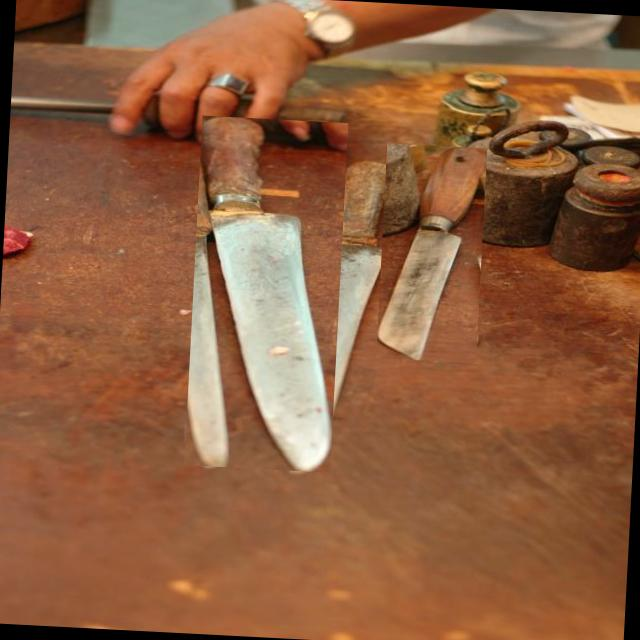Knife: (202, 117, 332, 471), (287, 161, 392, 473), (379, 147, 487, 360)
